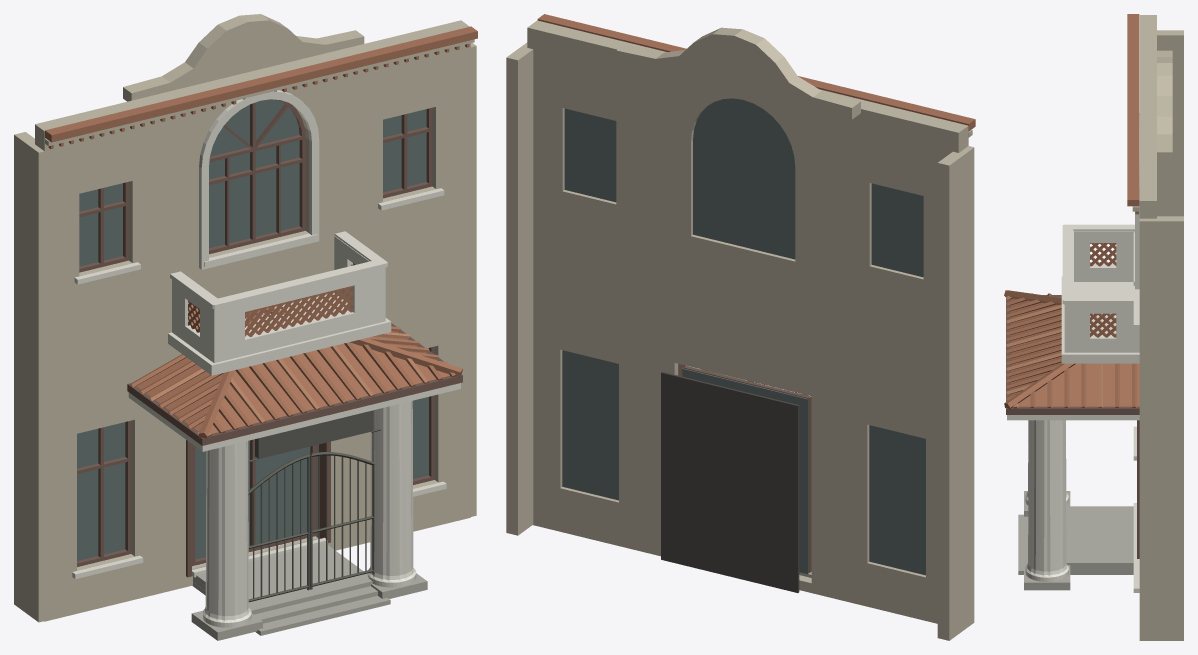
File: nanchang-portico-far.glb
3 views of the same model, side by side, from view 1: azimuth 30°, elevation 25°; view 2: azimuth 150°, elevation 25°; view 3: azimuth 270°, elevation 25° (orthographic). The views are drawn at different scales.
Parts seen in each view (by area): view 1: 法国体育总会南昌路门廊与券窗阳台; view 2: 法国体育总会南昌路门廊与券窗阳台; view 3: 法国体育总会南昌路门廊与券窗阳台.
Part boxes in pixels (x1=…): 法国体育总会南昌路门廊与券窗阳台: x1=14, y1=14, x2=477, y2=640; 法国体育总会南昌路门廊与券窗阳台: x1=506, y1=14, x2=975, y2=640; 法国体育总会南昌路门廊与券窗阳台: x1=1004, y1=14, x2=1183, y2=640.
Size of the model in its own units: 7.56 by 8.93 by 3.01.
